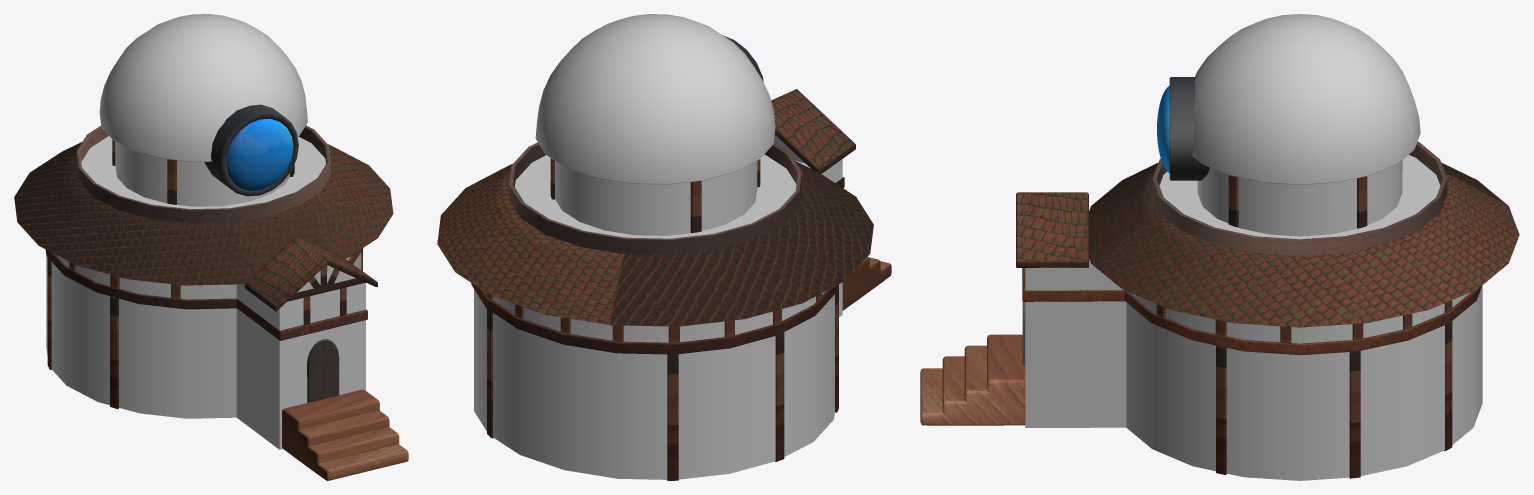
Rendered from CasaFBXTex.fbx.
3 views of the same model, side by side, from view 1: azimuth 30°, elevation 25°; view 2: azimuth 150°, elevation 25°; view 3: azimuth 270°, elevation 25° (orthographic). The views are drawn at different scales.
Visible parts, largest first — view 1: Geo_edificio, Geo_techito, Geo_Escalera, Geo_Valla, Geo_TechitoFront, Geo_Lente, Geo_horizontal, Geo_Lampara, Geo_Puerta, Geo_Viga_20, Geo_Viga_19, Geo_Viga (+1 smaller); view 2: Geo_edificio, Geo_techito, Geo_Valla, Geo_horizontal, Geo_TechitoFront, Geo_Viga_18, Geo_Escalera, Geo_Viga_19, Geo_Viga_17, Geo_Viga_21, Geo_Viga_20; view 3: Geo_edificio, Geo_techito, Geo_Escalera, Geo_Valla, Geo_horizontal, Geo_TechitoFront, Geo_Lampara, Geo_Viga_16, Geo_Viga_02, Geo_Viga_17, Geo_Lente.
Part boxes in pixels (x1=…): Geo_edificio: x1=46, y1=14, x2=365, y2=449; Geo_techito: x1=14, y1=142, x2=393, y2=285; Geo_Escalera: x1=282, y1=389, x2=408, y2=480; Geo_Valla: x1=76, y1=125, x2=330, y2=223; Geo_TechitoFront: x1=244, y1=236, x2=377, y2=311; Geo_Lente: x1=226, y1=118, x2=293, y2=190; Geo_horizontal: x1=45, y1=248, x2=367, y2=340; Geo_Lampara: x1=204, y1=104, x2=298, y2=196; Geo_Puerta: x1=307, y1=339, x2=339, y2=402; Geo_Viga_20: x1=110, y1=296, x2=118, y2=408; Geo_Viga_19: x1=47, y1=257, x2=51, y2=369; Geo_Viga: x1=287, y1=278, x2=365, y2=301; Geo_edificio: x1=474, y1=14, x2=842, y2=479; Geo_techito: x1=437, y1=161, x2=873, y2=326; Geo_Valla: x1=509, y1=142, x2=801, y2=255; Geo_horizontal: x1=471, y1=177, x2=844, y2=354; Geo_TechitoFront: x1=771, y1=89, x2=855, y2=173; Geo_Viga_18: x1=667, y1=354, x2=678, y2=480; Geo_Escalera: x1=842, y1=257, x2=891, y2=310; Geo_Viga_19: x1=775, y1=332, x2=784, y2=461; Geo_Viga_17: x1=487, y1=309, x2=493, y2=438; Geo_Viga_21: x1=690, y1=181, x2=701, y2=233; Geo_Viga_20: x1=835, y1=284, x2=838, y2=412; Geo_edificio: x1=1025, y1=14, x2=1482, y2=480; Geo_techito: x1=1089, y1=162, x2=1519, y2=327; Geo_Escalera: x1=920, y1=334, x2=1025, y2=425; Geo_Valla: x1=1152, y1=141, x2=1447, y2=255; Geo_horizontal: x1=1022, y1=268, x2=1481, y2=355; Geo_TechitoFront: x1=1016, y1=192, x2=1088, y2=267; Geo_Lampara: x1=1169, y1=77, x2=1209, y2=180; Geo_Viga_16: x1=1349, y1=351, x2=1360, y2=478; Geo_Viga_02: x1=1216, y1=345, x2=1226, y2=474; Geo_Viga_17: x1=1444, y1=321, x2=1452, y2=451; Geo_Lente: x1=1157, y1=86, x2=1169, y2=172.
Size of the model in its own units: 3.96 by 3.78 by 5.41.
